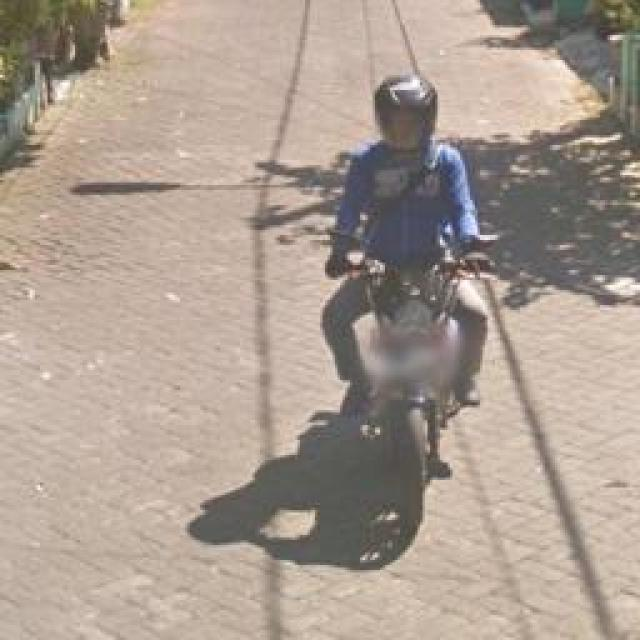motorcycle: (358, 240, 498, 535)
